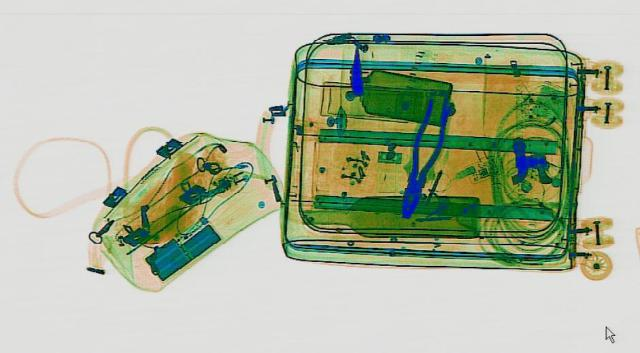Pliers: (391, 95, 455, 218)
